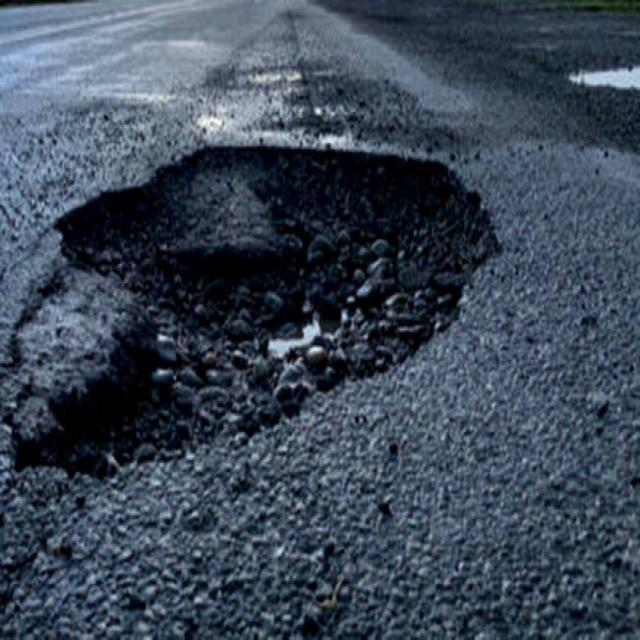Pothole: (0, 149, 500, 481)
